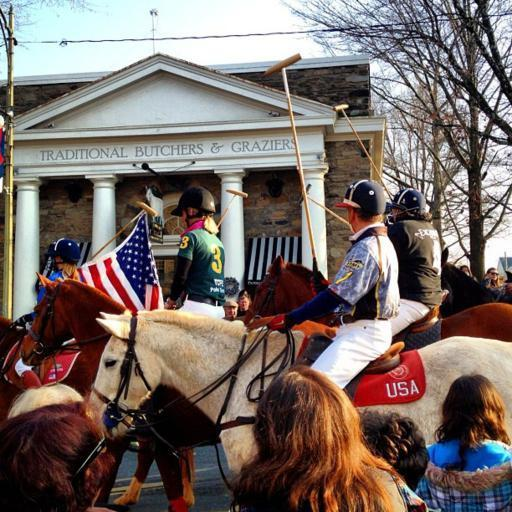horse: (84, 310, 512, 477), (19, 270, 245, 512), (0, 314, 185, 512), (245, 250, 511, 343), (438, 263, 512, 313)
